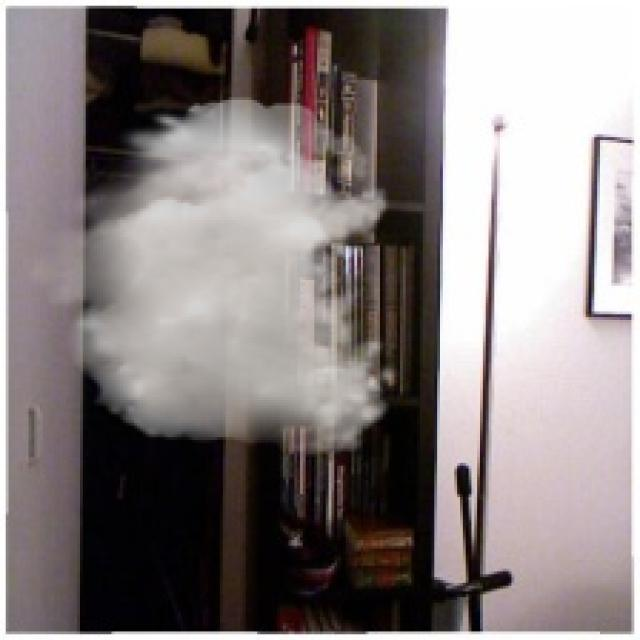Smoke: (20, 97, 400, 457)
